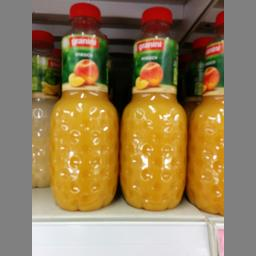juice: (49, 1, 120, 210), (118, 4, 188, 210)
